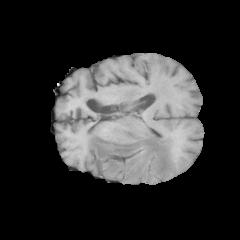glioma: (86, 127, 175, 178)
